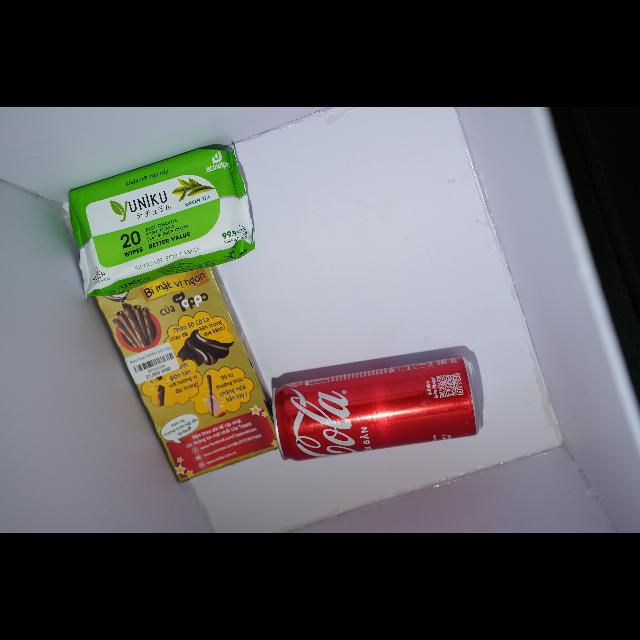banh_toppo_socola: (96, 268, 278, 482)
coca_cola: (274, 357, 480, 461)
khan_giay: (69, 145, 255, 295)
